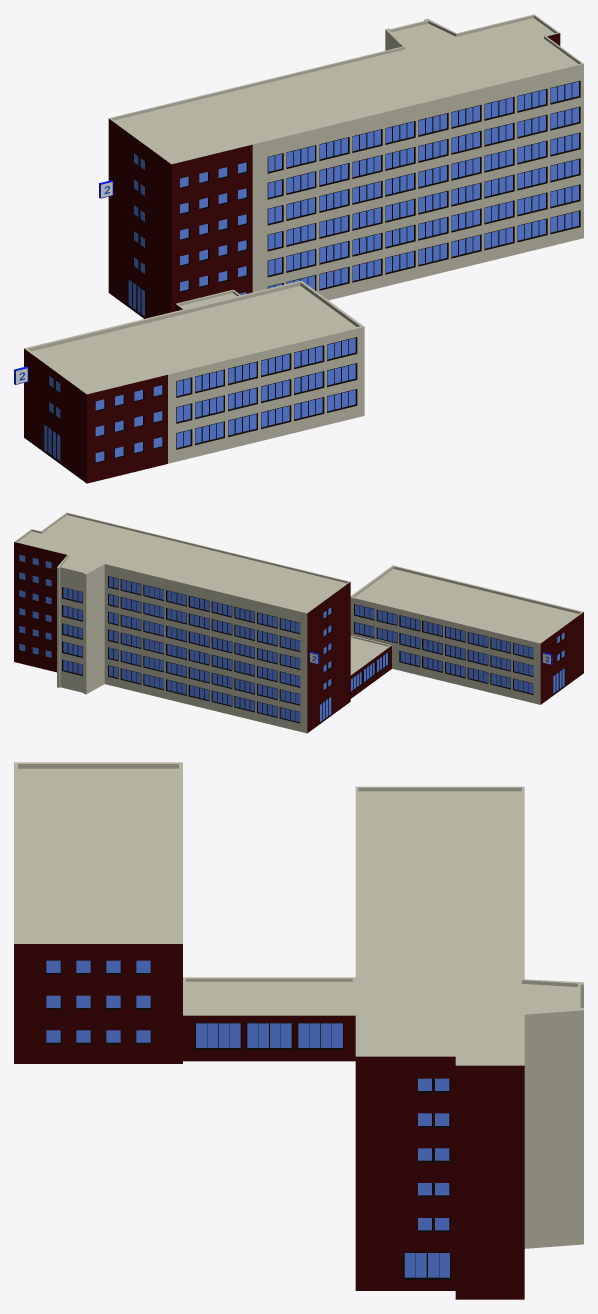
The model's file is Blok11_12.FBX.
3 views of the same model, one above another, from view 1: azimuth 30°, elevation 25°; view 2: azimuth 150°, elevation 25°; view 3: azimuth 270°, elevation 25° (orthographic). The views are drawn at different scales.
Parts seen in each view (by area): view 1: Object003, Object022, Object017, Object014, Object034, Object005; view 2: Object003, Object022, Object008, Object033, Object005, Object011; view 3: Object003, Object022, Object033, Object018, Object035.
Part boxes in pixels (box(x1,y1,x2,y2)): Object003: box(108, 14, 583, 318); Object022: box(24, 280, 364, 483); Object017: box(267, 81, 580, 290); Object014: box(180, 162, 247, 295); Object034: box(95, 385, 163, 463); Object005: box(133, 153, 144, 274); Object003: box(14, 512, 350, 733); Object022: box(350, 565, 583, 704); Object008: box(108, 576, 300, 723); Object033: box(350, 635, 391, 698); Object005: box(62, 587, 331, 690); Object011: box(18, 554, 59, 658); Object003: box(355, 786, 583, 1299); Object022: box(14, 762, 182, 1063); Object033: box(183, 977, 355, 1061); Object018: box(403, 1078, 451, 1279); Object035: box(45, 960, 151, 1043).
Bounding box in the file's own units: 97481 × 24972 × 55093.
